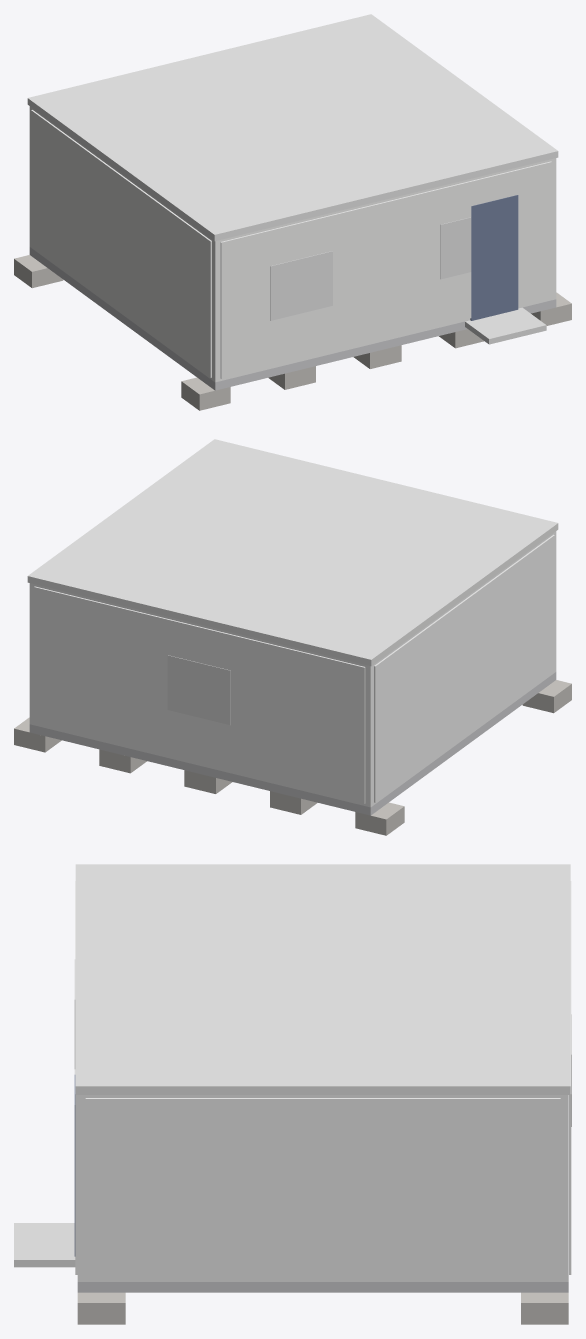
Rendered from Studio-20-Village-LOD2.glb.
3 views of the same model, one above another, from view 1: azimuth 30°, elevation 25°; view 2: azimuth 150°, elevation 25°; view 3: azimuth 270°, elevation 25° (orthographic). The views are drawn at different scales.
Visible parts, largest first — view 1: RoofMain, ExteriorPanelsStandard, EntryDoor, WindowsStandard, FoundationBlocks, ExteriorShell, BaseFrame, AccessibilityVillage; view 2: ExteriorPanelsStandard, RoofMain, FoundationBlocks, ExteriorShell, BaseFrame, WindowsStandard; view 3: RoofMain, ExteriorPanelsStandard, ExteriorShell, BaseFrame, FoundationBlocks, AccessibilityVillage.
Part boxes in pixels (x1,y1,x2,y2): RoofMain: (27,14,558,241); ExteriorPanelsStandard: (31,110,551,378); EntryDoor: (470,195,518,320); WindowsStandard: (270,217,471,320); FoundationBlocks: (14,255,571,410); ExteriorShell: (29,106,556,382); BaseFrame: (29,247,556,390); AccessibilityVillage: (465,307,546,344); ExteriorPanelsStandard: (34,534,554,803); RoofMain: (27,439,558,666); FoundationBlocks: (14,680,571,835); ExteriorShell: (29,531,556,807); BaseFrame: (29,672,556,815); WindowsStandard: (167,655,230,725); RoofMain: (75,864,570,1094); ExteriorPanelsStandard: (75,881,571,1279); ExteriorShell: (77,1095,568,1281); BaseFrame: (77,1282,568,1292); FoundationBlocks: (77,1292,568,1324); AccessibilityVillage: (14,1223,75,1267).
Size of the model in its own units: 7.14 by 3.17 by 7.
